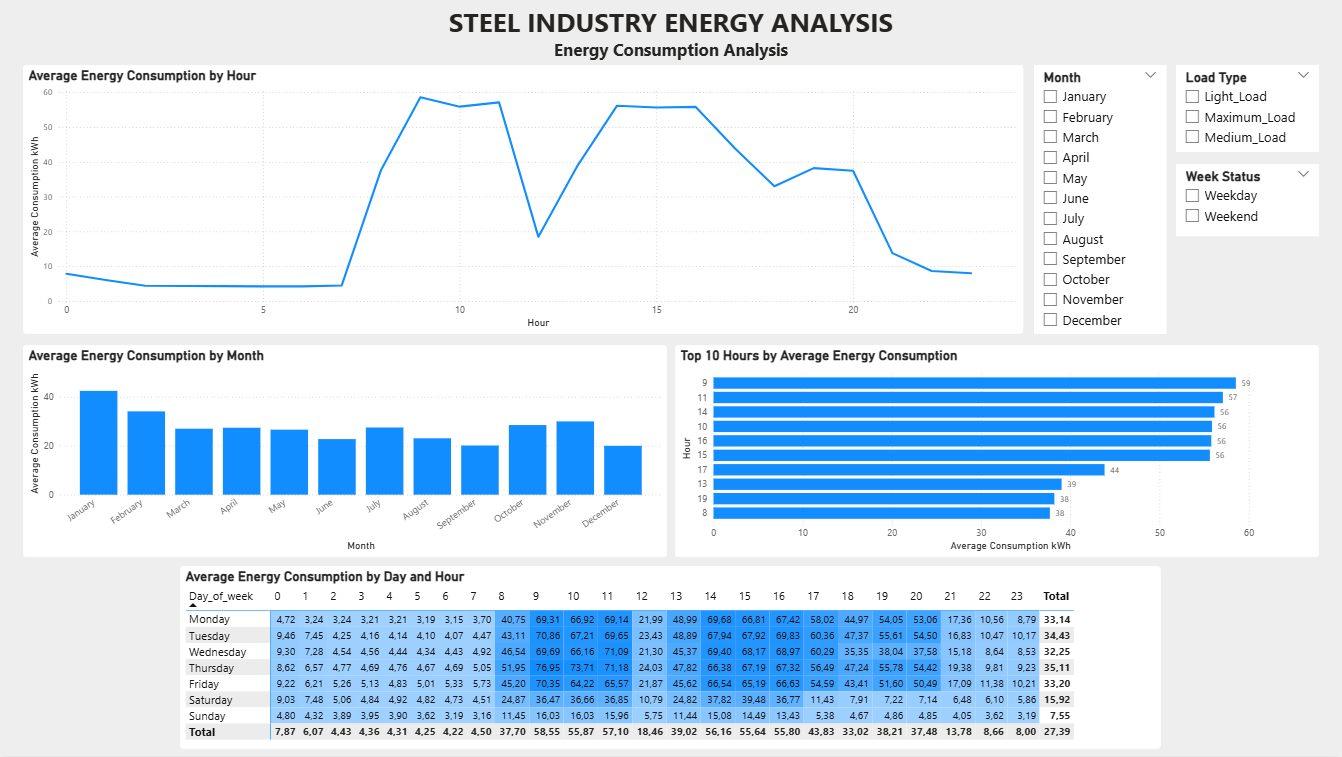

The page's visual inventory and layout, read from the dashboard file:
{"tool":"powerbi","page":{"name":"Energy Consump. Analysis","canvas":[1920,1080],"ordinal":1},"visuals":[{"type":"lineChart","title":"Average Energy Consumption by Hour","fields":{"Category":["cleaned_energy_data.Hour"],"Y":["cleaned_energy_data.Average Consumption kWh"]},"box":[34.3,92.9,1428.6,384.3],"z":0},{"type":"textbox","box":[0,0,1920,92.9],"z":1000},{"type":"columnChart","title":"Average Energy Consumption by Month","fields":{"Y":["cleaned_energy_data.Average Consumption kWh"],"Category":["MonthOrder.Month"]},"box":[34.3,492.9,920,302.9],"z":2000},{"type":"pivotTable","title":"Average Energy Consumption by Day and Hour","fields":{"Columns":["cleaned_energy_data.Hour"],"Values":["cleaned_energy_data.Average Consumption kWh"],"Rows":["DayOrder.Day_of_week"]},"box":[258.6,808.6,1401.4,261.4],"z":3000},{"type":"barChart","title":"Top 10 Hours by Average Energy Consumption","fields":{"Category":["cleaned_energy_data.Hour"],"Y":["cleaned_energy_data.Average Consumption kWh"]},"box":[965.7,492.9,920,302.9],"z":4000},{"type":"slicer","fields":{"Values":["cleaned_energy_data.Load_Type"]},"box":[1681.4,92.9,204.3,124.3],"z":5000},{"type":"slicer","fields":{"Values":["cleaned_energy_data.WeekStatus"]},"box":[1681.4,234.3,204.3,102.9],"z":6000},{"type":"slicer","fields":{"Values":["MonthOrder.Month"]},"box":[1478.6,92.9,188.6,384.3],"z":7000}]}

Visuals, with their boxes in screenshot pixels (x1, y1, x2, y2), scaled from the page's 1920x1080 canvas onto the 1342x757 screenshot:
"Average Energy Consumption by Hour" lineChart: <bbox>24, 65, 1023, 334</bbox>
textbox: <bbox>0, 0, 1341, 65</bbox>
"Average Energy Consumption by Month" columnChart: <bbox>24, 345, 667, 558</bbox>
"Average Energy Consumption by Day and Hour" pivotTable: <bbox>181, 567, 1160, 750</bbox>
"Top 10 Hours by Average Energy Consumption" barChart: <bbox>675, 345, 1318, 558</bbox>
slicer - cleaned_energy_data.Load_Type: <bbox>1175, 65, 1318, 152</bbox>
slicer - cleaned_energy_data.WeekStatus: <bbox>1175, 164, 1318, 236</bbox>
slicer - MonthOrder.Month: <bbox>1033, 65, 1165, 334</bbox>
